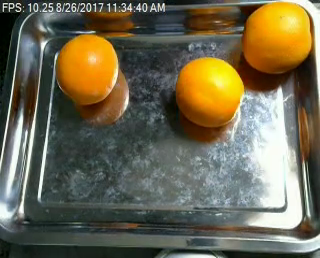Orange: (242, 2, 313, 72), (176, 56, 244, 127), (54, 35, 118, 104)
